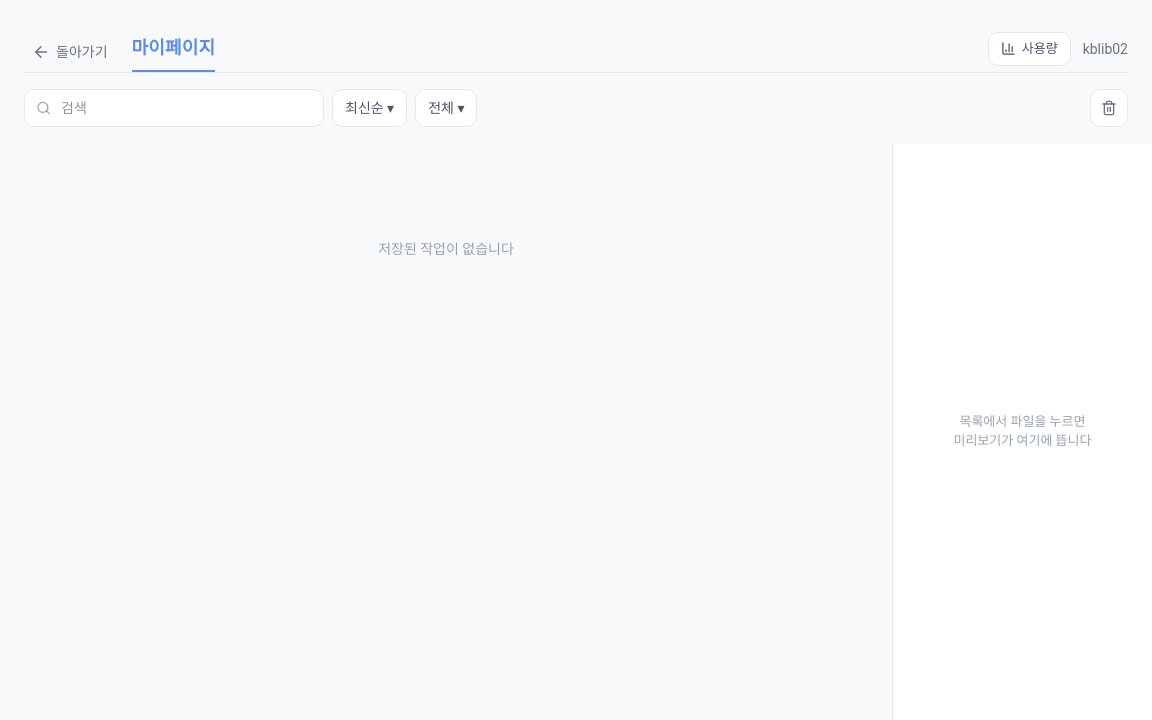
Scenario: 마이페이지 → V3-06 진입 › 사용량을 누르면 사용량 화면이 열린다
Click the button "사용량": (1029, 49) x1=988 y1=32 x2=1071 y2=66
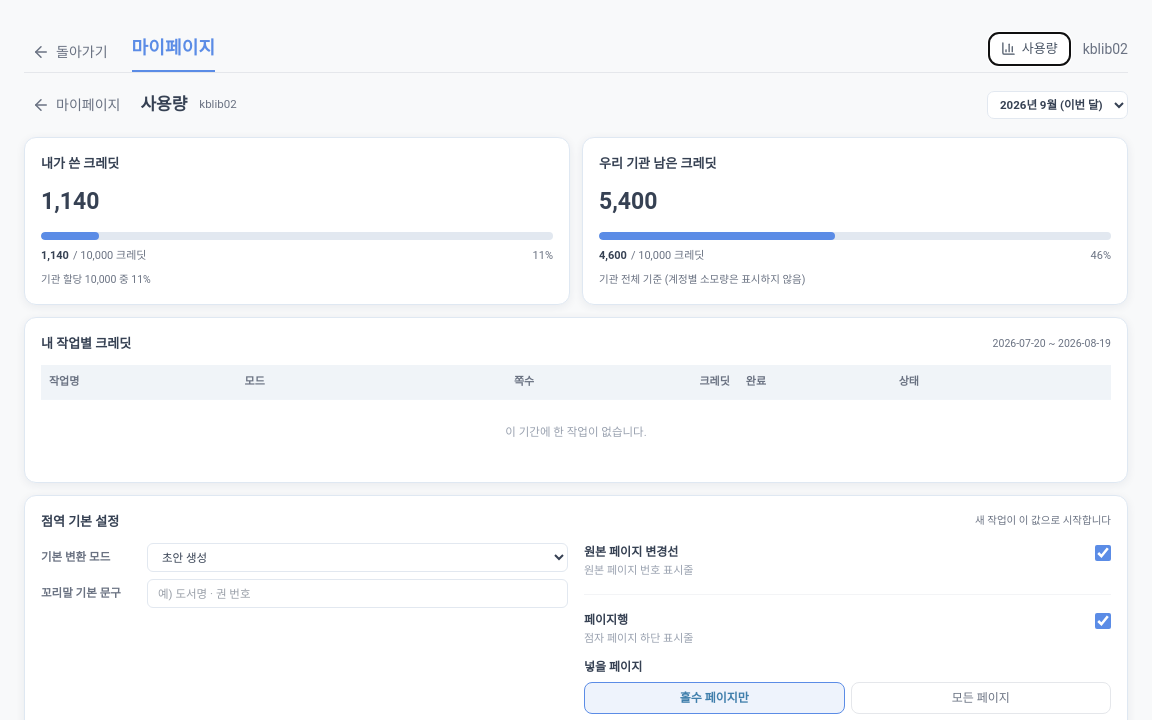
Now the heading "내가 쓴 크레딧" is shown, box x1=41 y1=154 x2=119 y2=173
